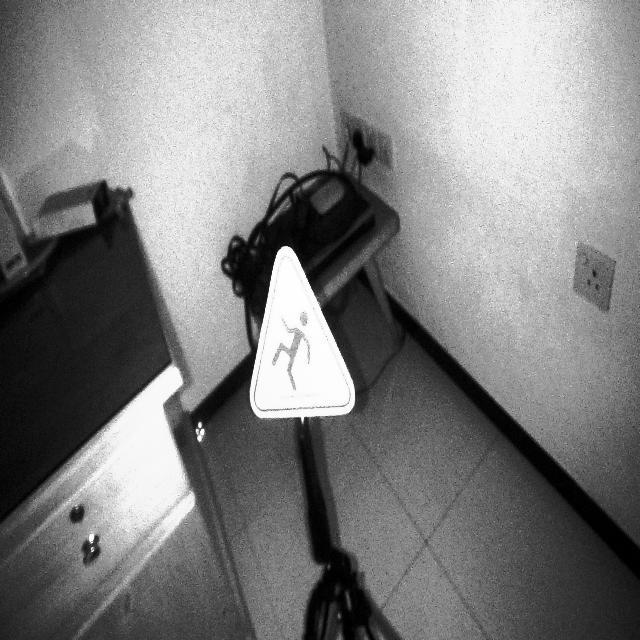Sign: (248, 243, 357, 423)
